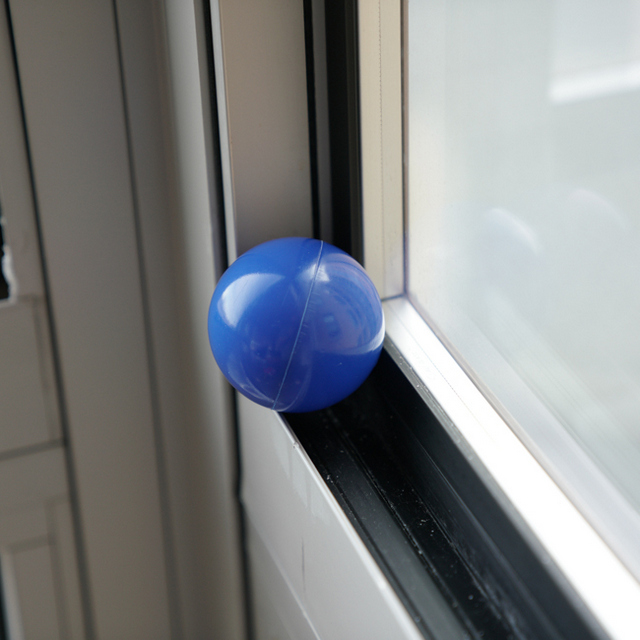Ball: (208, 245, 386, 412)
